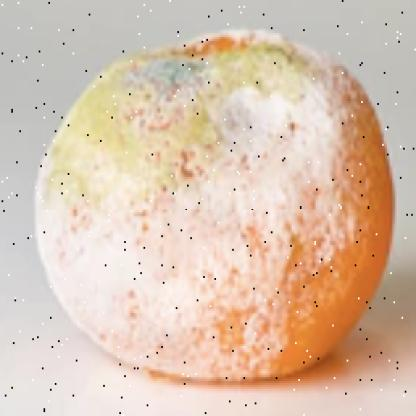rotten: (34, 33, 394, 384)
